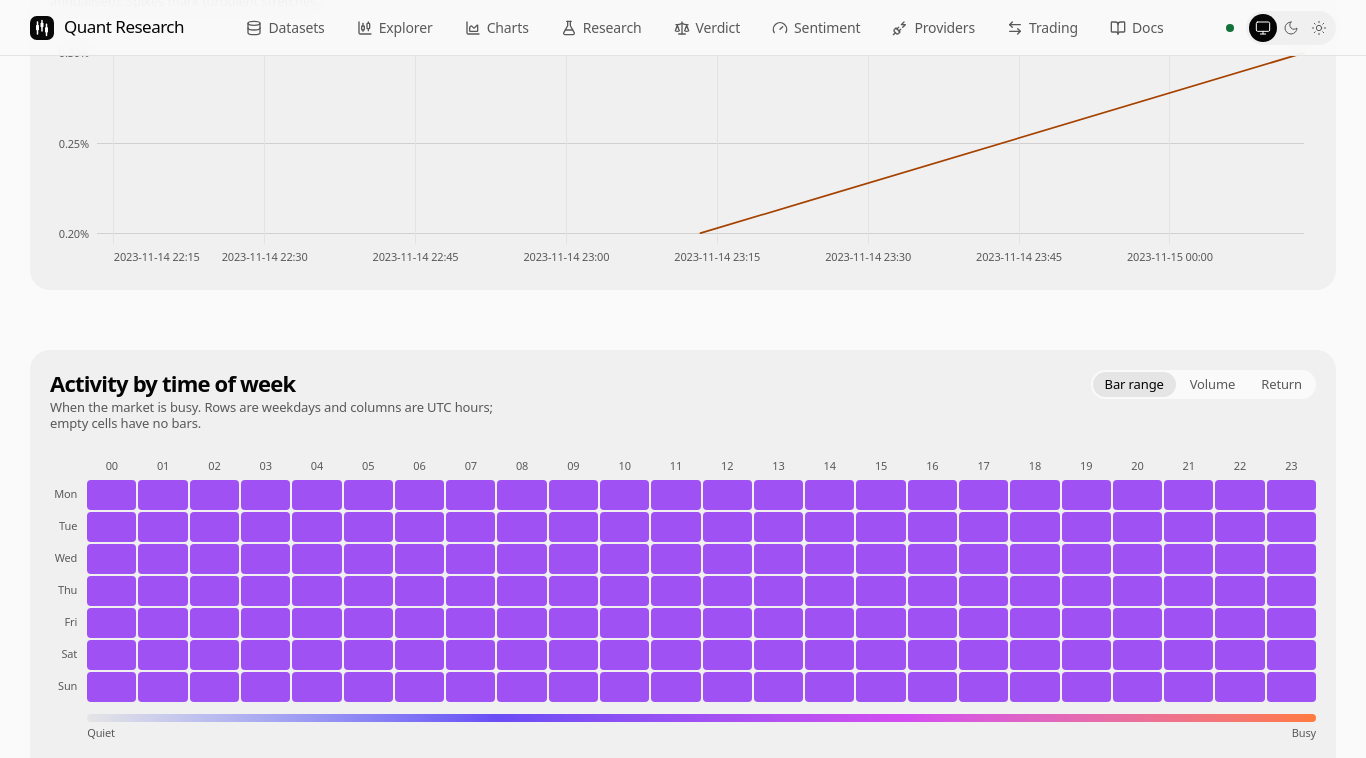
Test: Charts page › switches the activity heatmap metric without another request
The image size is (1366, 758).
(page scrolled)
Step 1. Click the radio button labelled "Return" → point(1282, 384), box [1249,372,1314,397]
(page scrolled)
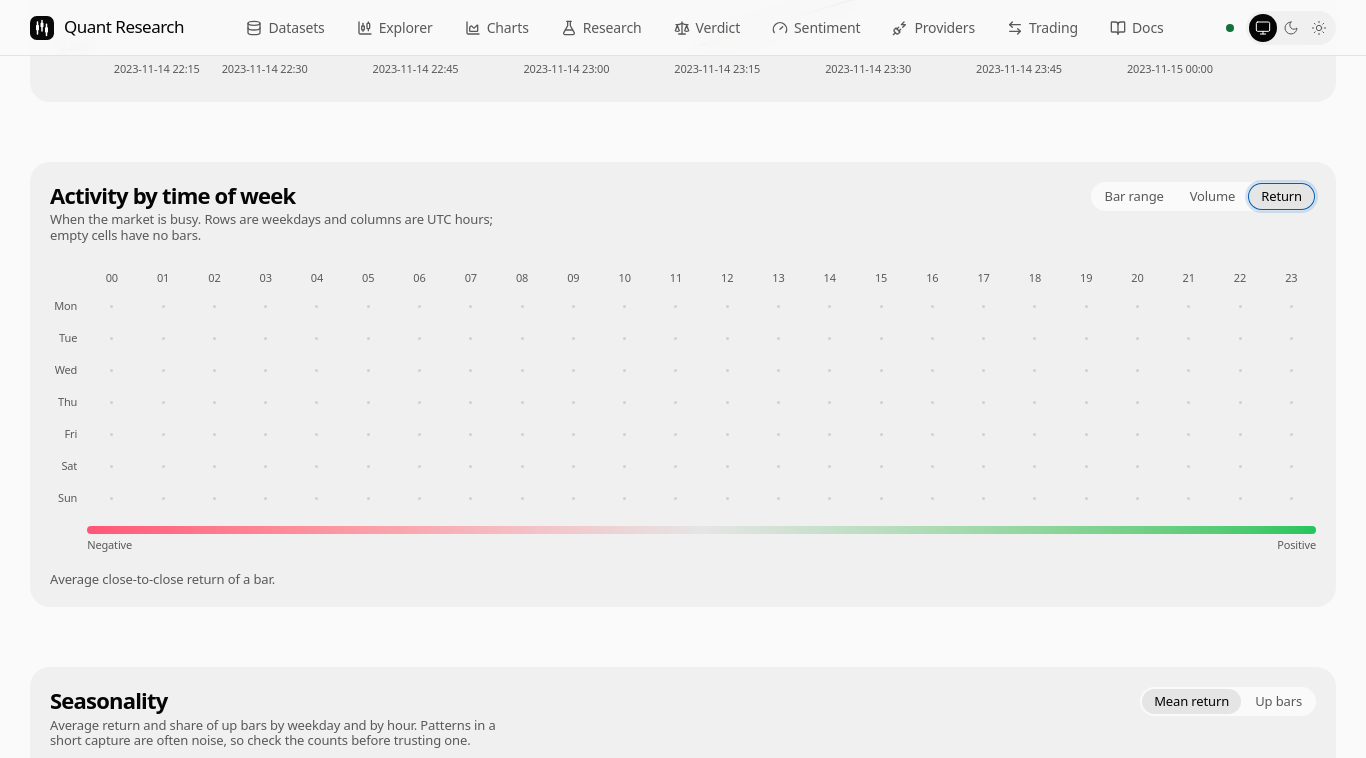
Expected: the element with id "activity" shows "close-to-close return", [50,570,275,588]
